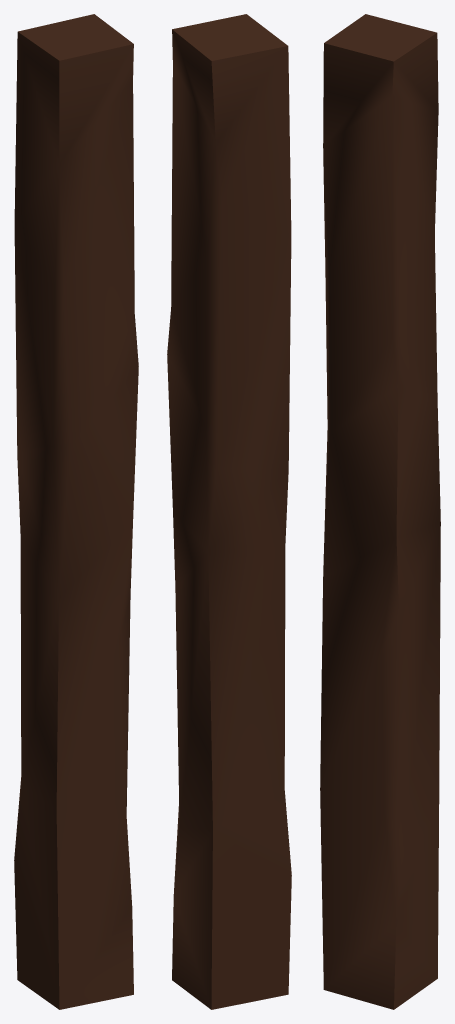
File: Beam.FBX
3 views of the same model, side by side, from view 1: azimuth 30°, elevation 25°; view 2: azimuth 210°, elevation 25°; view 3: azimuth 330°, elevation 25° (orthographic).
Parts seen in each view (by area): view 1: Beam; view 2: Beam; view 3: Beam.
Boxes of the visible parts, left/top/right/bottom form: Beam: left=14, top=14, right=138, bottom=1009; Beam: left=167, top=14, right=291, bottom=1009; Beam: left=320, top=14, right=440, bottom=1009.
Size of the model in its own units: 22.57 by 21.78 by 250.
